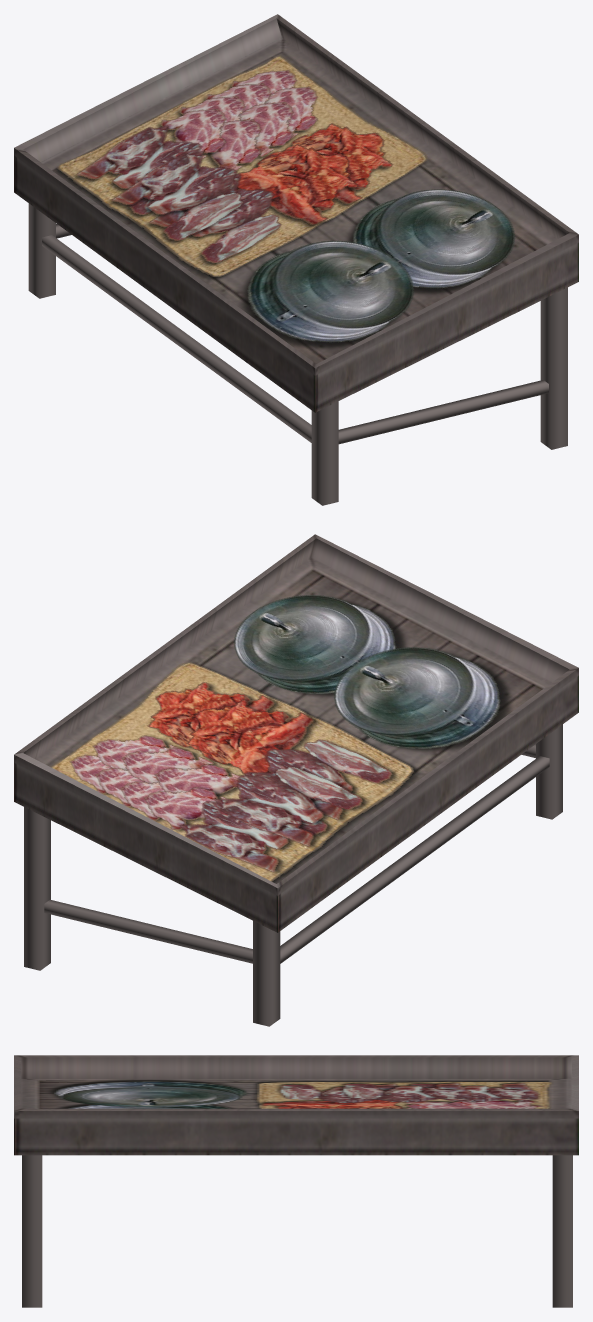
The model's file is gogi.FBX.
3 views of the same model, one above another, from view 1: azimuth 30°, elevation 25°; view 2: azimuth 150°, elevation 25°; view 3: azimuth 270°, elevation 25° (orthographic). The views are drawn at different scales.
Visible parts, largest first — view 1: polySurface25; view 2: polySurface25; view 3: polySurface25.
Part boxes in pixels (box(x1,y1,x2,y2)): polySurface25: box(14, 14, 578, 505); polySurface25: box(14, 534, 578, 1026); polySurface25: box(14, 1055, 578, 1307).
Bounding box in the file's own units: 14.28 × 11.01 × 28.23.
1 material, 1 textured.
